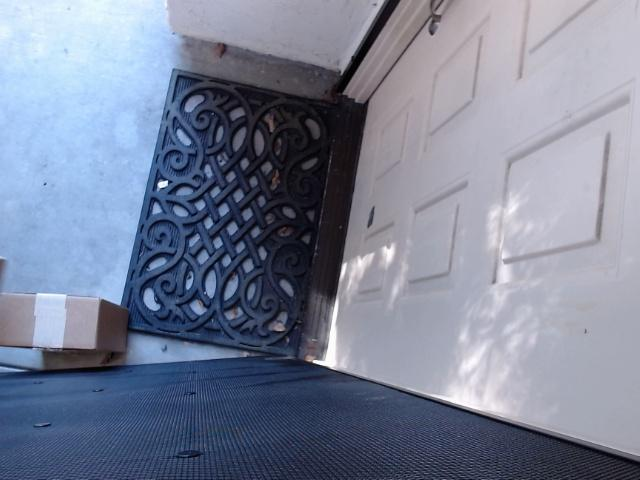box: (0, 244, 187, 376)
